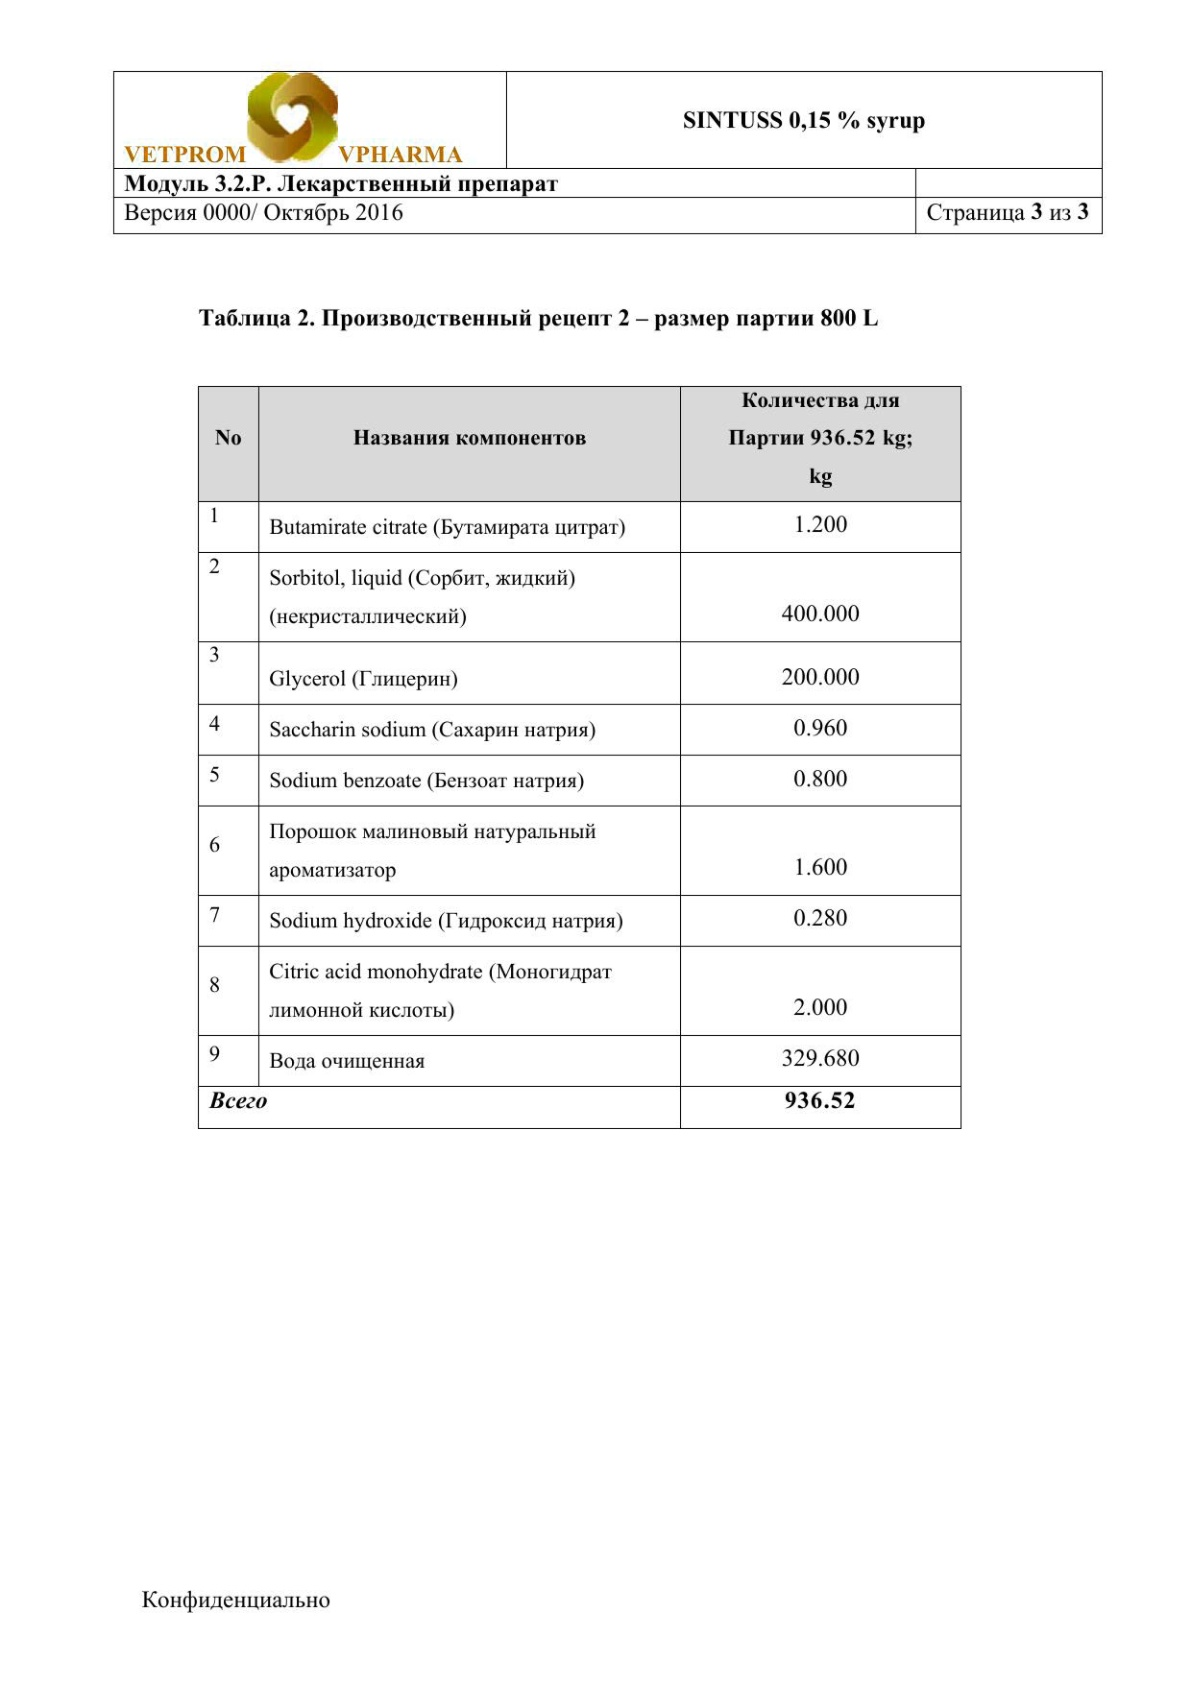merged_cells: (196, 384, 962, 1130), (111, 70, 1103, 235)
